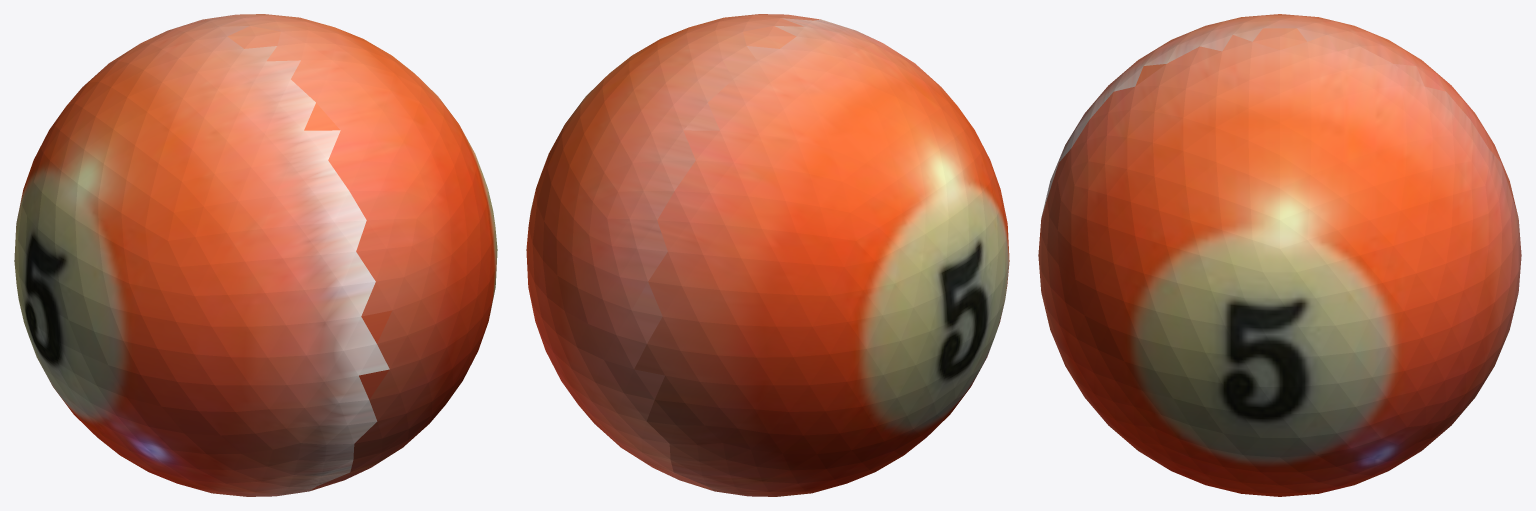
File: balll_5.glb
The picture shows the model from 3 angles, left to right: view 1: azimuth 30°, elevation 25°; view 2: azimuth 150°, elevation 25°; view 3: azimuth 270°, elevation 25°; orthographic projection.
Visible parts, largest first — view 1: Ball_1; view 2: Ball_1; view 3: Ball_1.
Boxes of the visible parts, <box> form: Ball_1: <box>14,14,497,496</box>; Ball_1: <box>526,14,1009,496</box>; Ball_1: <box>1038,14,1521,496</box>.
Bounding box in the file's own units: 2 × 2 × 2.
Materials: 1 (1 with a texture image).
